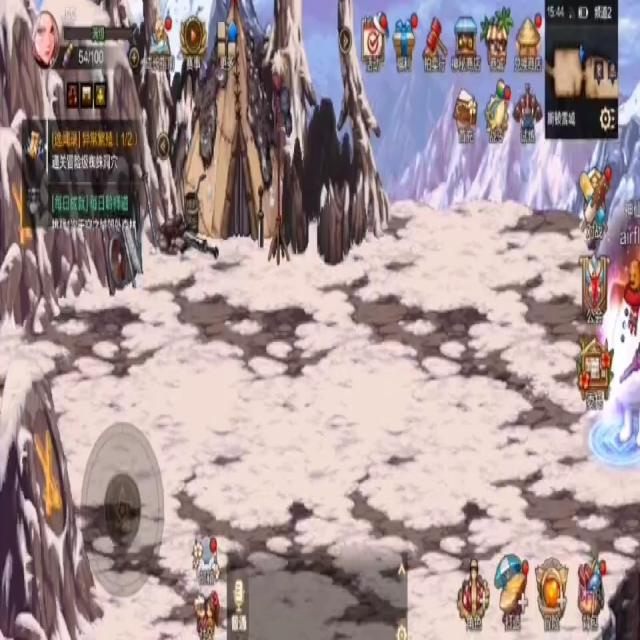direction_icon: (105, 475, 142, 544)
player: (611, 257, 640, 455)
